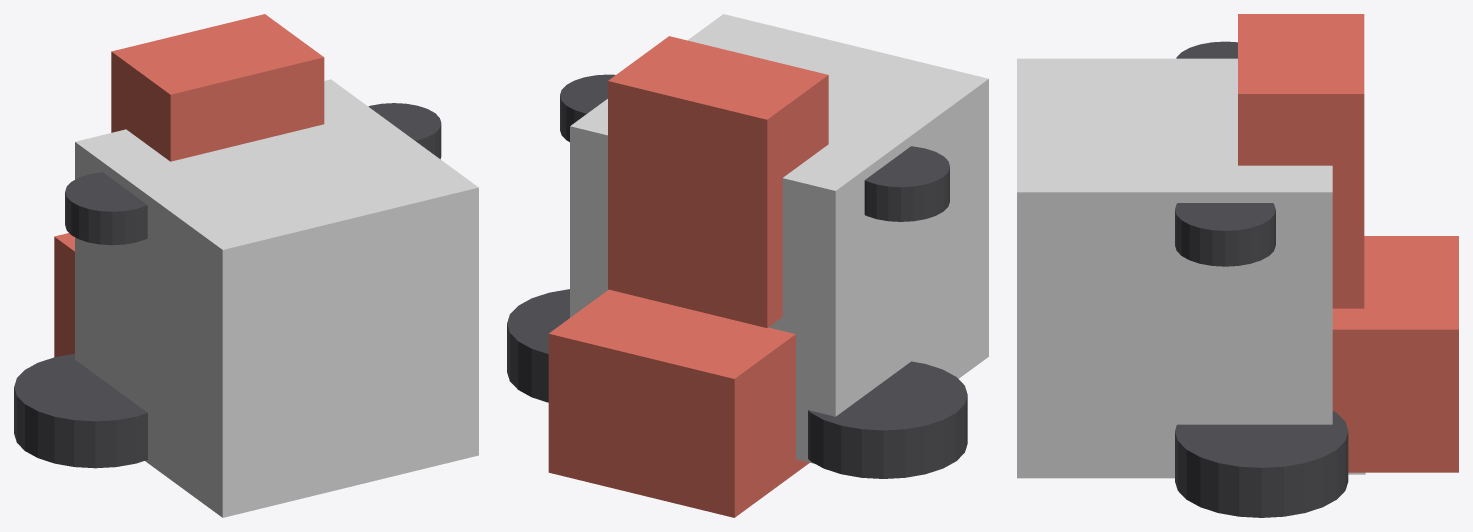
The model's file is tractor_1.glb.
3 renders of one model, left to right at view 1: azimuth 30°, elevation 25°; view 2: azimuth 150°, elevation 25°; view 3: azimuth 270°, elevation 25°, orthographic. The views are drawn at different scales.
Visible parts, largest first — view 1: Cube, Bonnet, Wheel_RR, Wheel_FR, Cabin, Wheel_FL; view 2: Cube, Bonnet, Cabin, Wheel_RR, Wheel_FR, Wheel_RL, Wheel_FL; view 3: Cube, Cabin, Bonnet, Wheel_RL, Wheel_FL, Wheel_FR.
Boxes of the visible parts, bbox=[...] form: Cube: bbox=[75, 79, 478, 517]; Bonnet: bbox=[111, 14, 324, 161]; Wheel_RR: bbox=[14, 353, 147, 468]; Wheel_FR: bbox=[65, 172, 147, 245]; Cabin: bbox=[54, 233, 74, 357]; Wheel_FL: bbox=[368, 103, 441, 159]; Cube: bbox=[570, 14, 988, 463]; Bonnet: bbox=[608, 36, 828, 327]; Cabin: bbox=[548, 289, 809, 517]; Wheel_RR: bbox=[808, 361, 967, 478]; Wheel_FR: bbox=[864, 146, 949, 221]; Wheel_RL: bbox=[507, 289, 569, 402]; Wheel_FL: bbox=[560, 74, 615, 141]; Cube: bbox=[1017, 58, 1332, 478]; Cabin: bbox=[1332, 236, 1458, 472]; Bonnet: bbox=[1238, 14, 1364, 308]; Wheel_RL: bbox=[1175, 411, 1348, 517]; Wheel_FL: bbox=[1175, 203, 1275, 266]; Wheel_FR: bbox=[1176, 41, 1237, 58].
Size of the model in its own units: 3.3 by 2.82 by 2.8.
